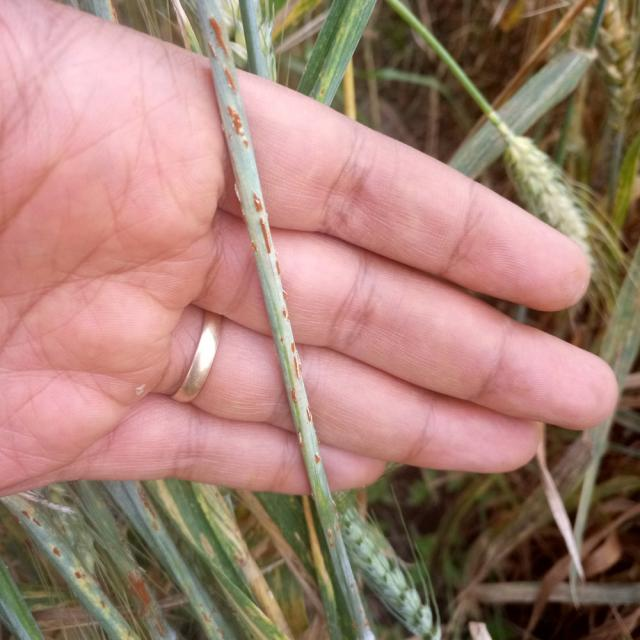wheat-stemrust: (121, 578, 166, 637), (226, 108, 246, 150), (209, 15, 226, 56), (18, 509, 44, 531), (221, 66, 237, 95), (258, 221, 269, 251), (291, 341, 300, 376), (288, 389, 300, 408), (251, 193, 259, 208), (51, 547, 59, 558)
